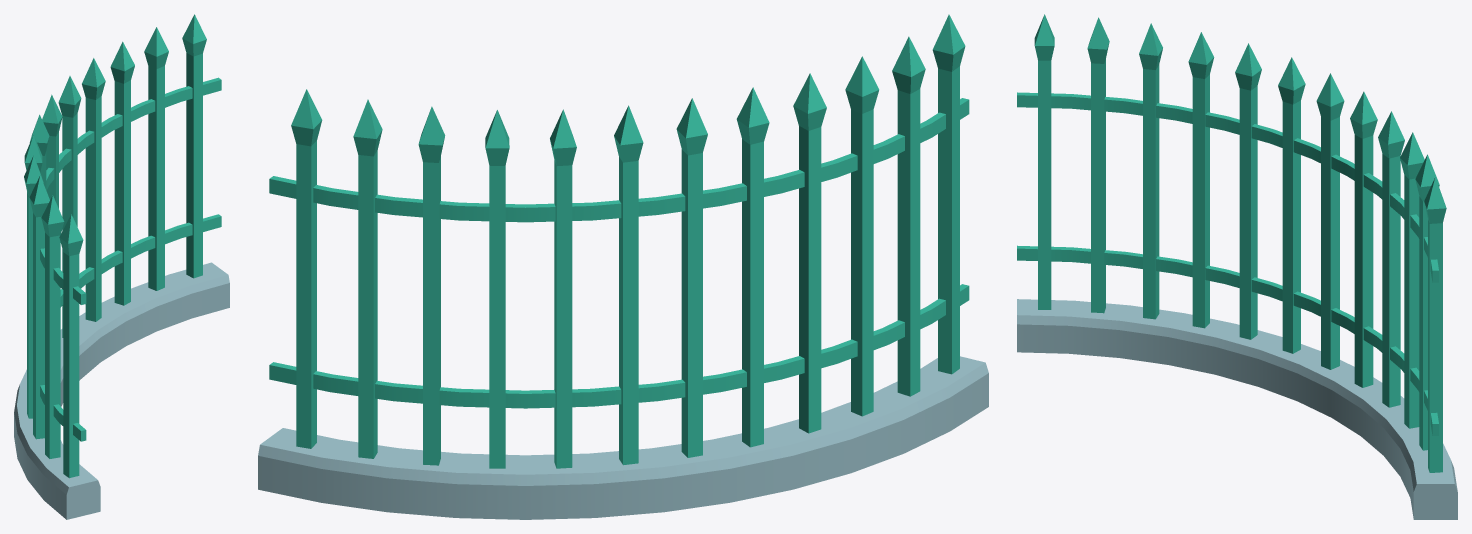
File: ironFenceBorderCurve.obj
3 views of the same model, side by side, from view 1: azimuth 30°, elevation 25°; view 2: azimuth 150°, elevation 25°; view 3: azimuth 270°, elevation 25° (orthographic). The views are drawn at different scales.
Parts seen in each view (by area): view 1: ironFenceBorderCurve; view 2: ironFenceBorderCurve; view 3: ironFenceBorderCurve.
Boxes of the visible parts, x1=… form: ironFenceBorderCurve: x1=14, y1=14, x2=229, y2=519; ironFenceBorderCurve: x1=258, y1=14, x2=988, y2=519; ironFenceBorderCurve: x1=1017, y1=14, x2=1457, y2=519.
Size of the model in its own units: 1 by 0.8239 by 1.
